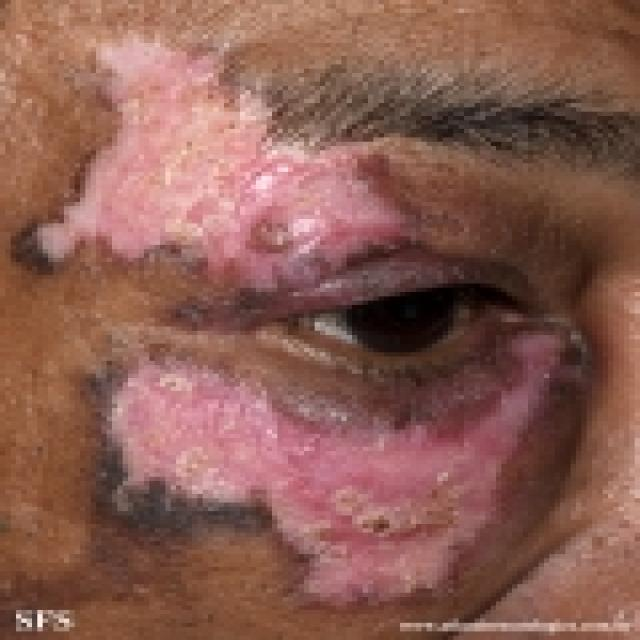lupus: (56, 330, 579, 614), (21, 22, 427, 305)
